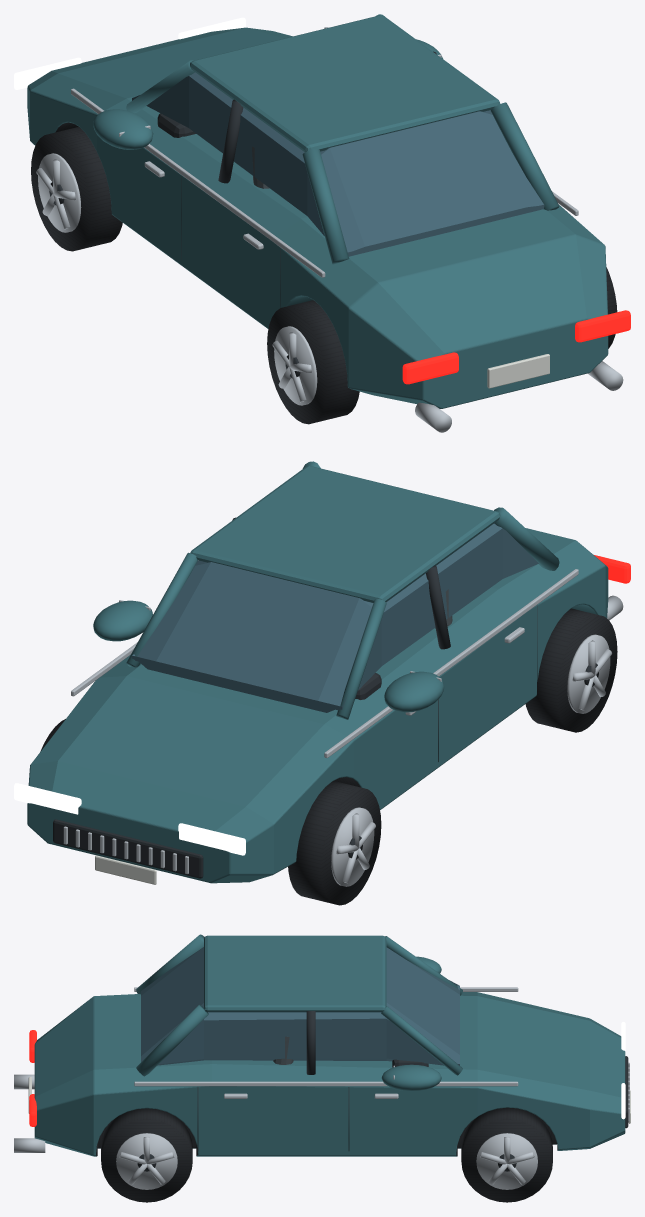
Rendered from mc_sedan.glb.
The picture shows the model from 3 angles, top to bottom: view 1: azimuth 30°, elevation 25°; view 2: azimuth 150°, elevation 25°; view 3: azimuth 270°, elevation 25°; orthographic projection. The views are drawn at different scales.
Visible parts, largest first — view 1: mc_sedan__Geometry, mc_sedan__Wheel_L, mc_sedan__Wheel_L.001; view 2: mc_sedan__Geometry, mc_sedan__Wheel_L.001, mc_sedan__Wheel_L; view 3: mc_sedan__Geometry, mc_sedan__Wheel_R.001, mc_sedan__Wheel_R.
Part boxes in pixels (x1,y1,x2,y2): mc_sedan__Geometry: [14, 14, 630, 432]; mc_sedan__Wheel_L: [267, 300, 359, 424]; mc_sedan__Wheel_L.001: [31, 127, 122, 251]; mc_sedan__Geometry: [14, 461, 630, 886]; mc_sedan__Wheel_L.001: [288, 781, 381, 905]; mc_sedan__Wheel_L: [525, 608, 617, 732]; mc_sedan__Geometry: [14, 934, 630, 1189]; mc_sedan__Wheel_R.001: [461, 1107, 552, 1202]; mc_sedan__Wheel_R: [101, 1108, 192, 1202].
Size of the model in its own units: 2.36 by 1.56 by 4.91.
9 materials, 2 textured.
